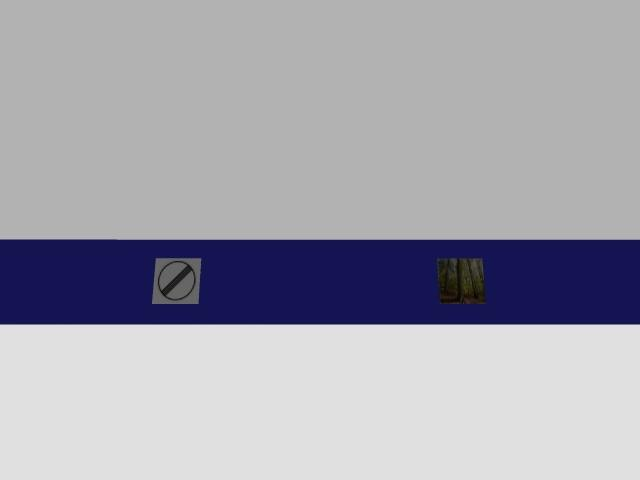fastsign: (152, 258, 199, 303)
tree: (466, 259, 478, 297), (456, 258, 463, 303), (444, 259, 450, 293), (476, 259, 483, 278)
